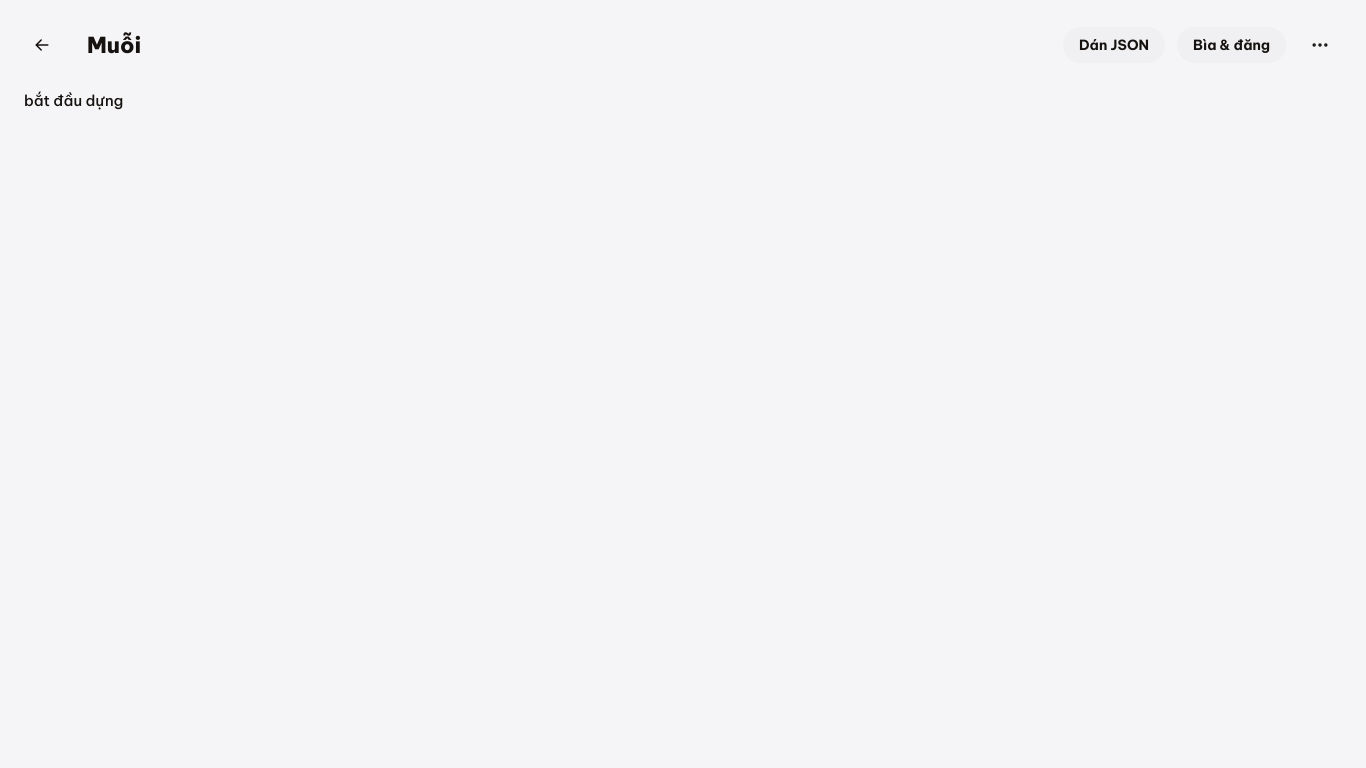
it: BackupsDialog (menu ⋯ → Bản sao lưu) › lists backups with reason labels, including a null reason
The image size is (1366, 768).
Click the button named "Thêm thao tác" at (1320, 45), box x1=1298 y1=23 x2=1342 y2=67
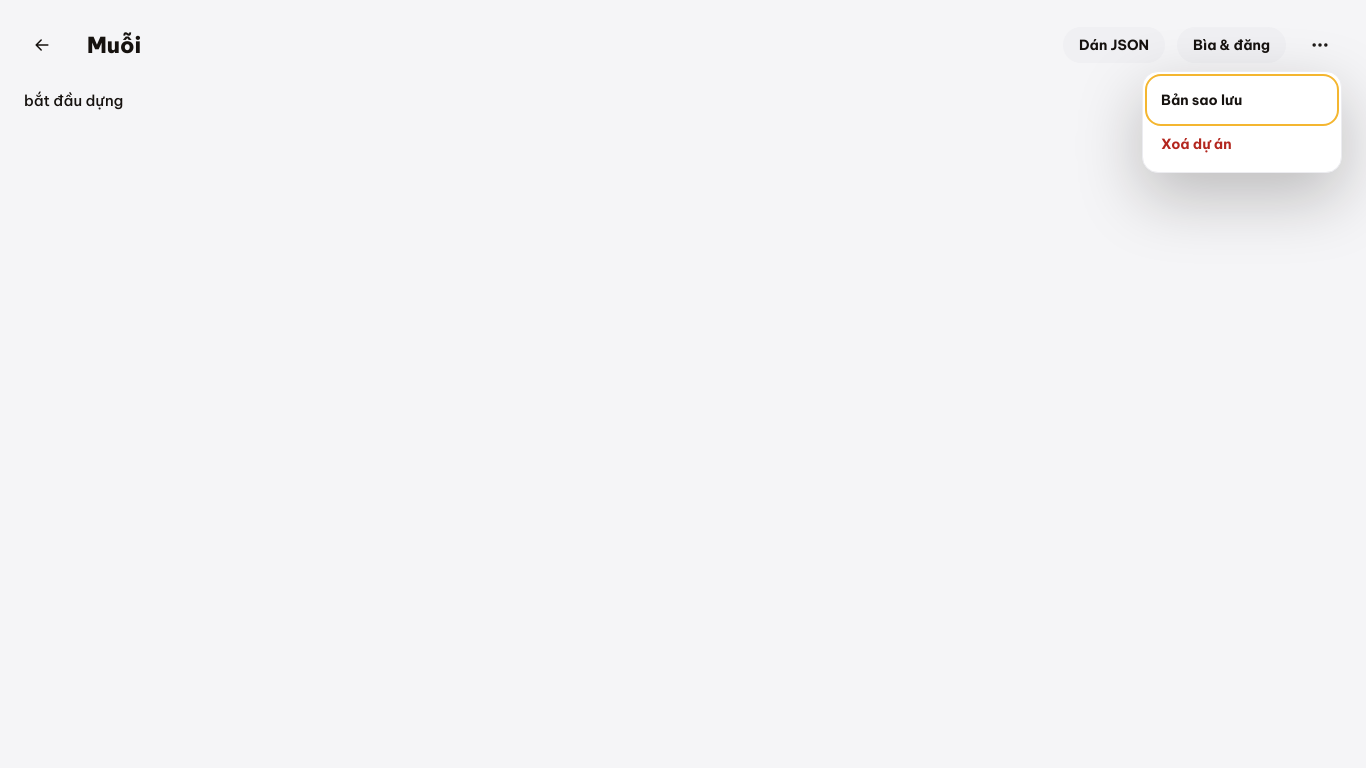
Click the menu item "Bản sao lưu" at (1242, 100), box x1=1149 y1=78 x2=1335 y2=122
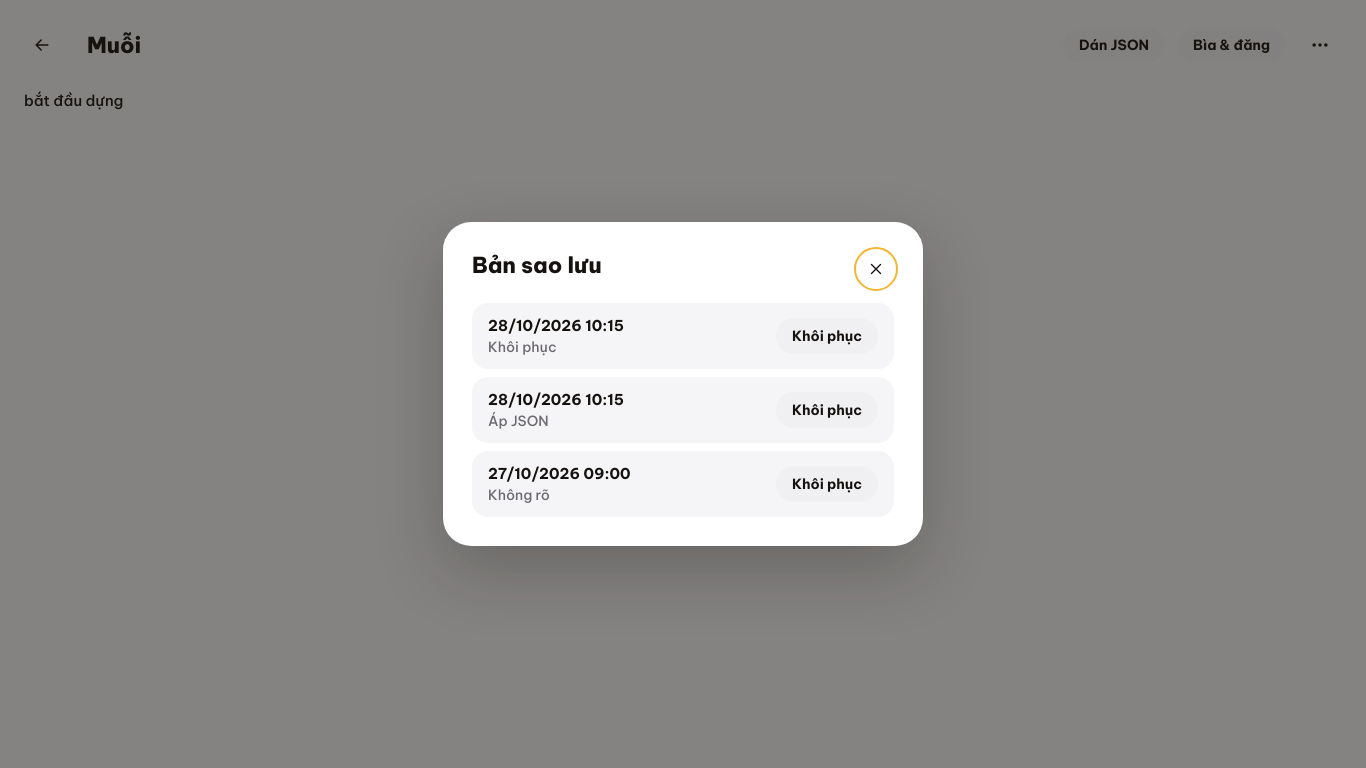
Check: the number of buttons "Khôi phục" is 3, box x1=776 y1=318 x2=878 y2=354; x1=776 y1=392 x2=878 y2=428; x1=776 y1=466 x2=878 y2=502
Check: the text "Áp JSON" is shown, box x1=488 y1=412 x2=549 y2=430
Check: the text "Khôi phục" is shown, box x1=488 y1=338 x2=557 y2=356
